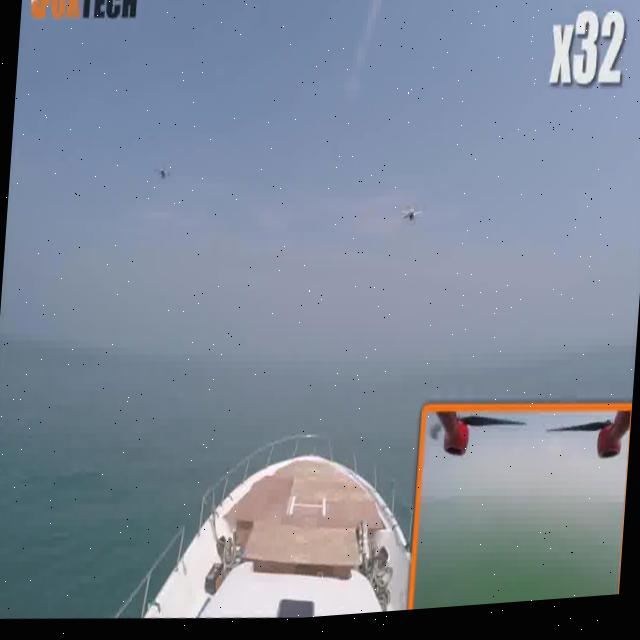drone: (393, 199, 426, 242), (148, 157, 176, 191)
